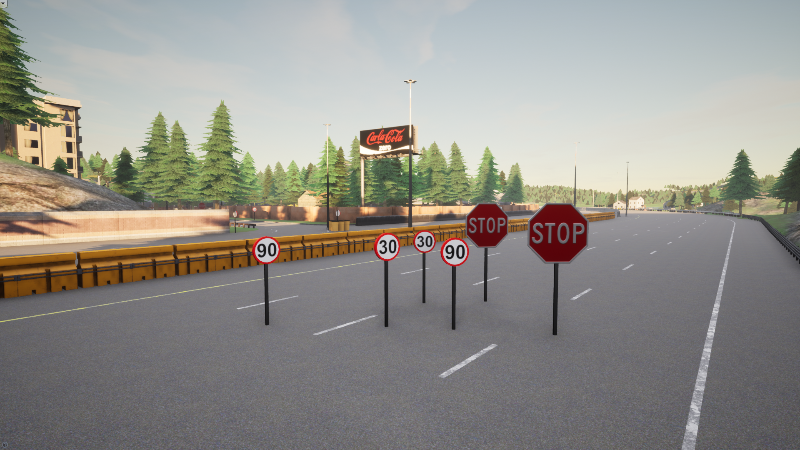fast: (440, 237, 469, 267), (251, 236, 281, 264)
slow: (374, 233, 400, 261), (413, 230, 436, 253)
stop: (528, 203, 588, 263), (465, 203, 509, 248)
